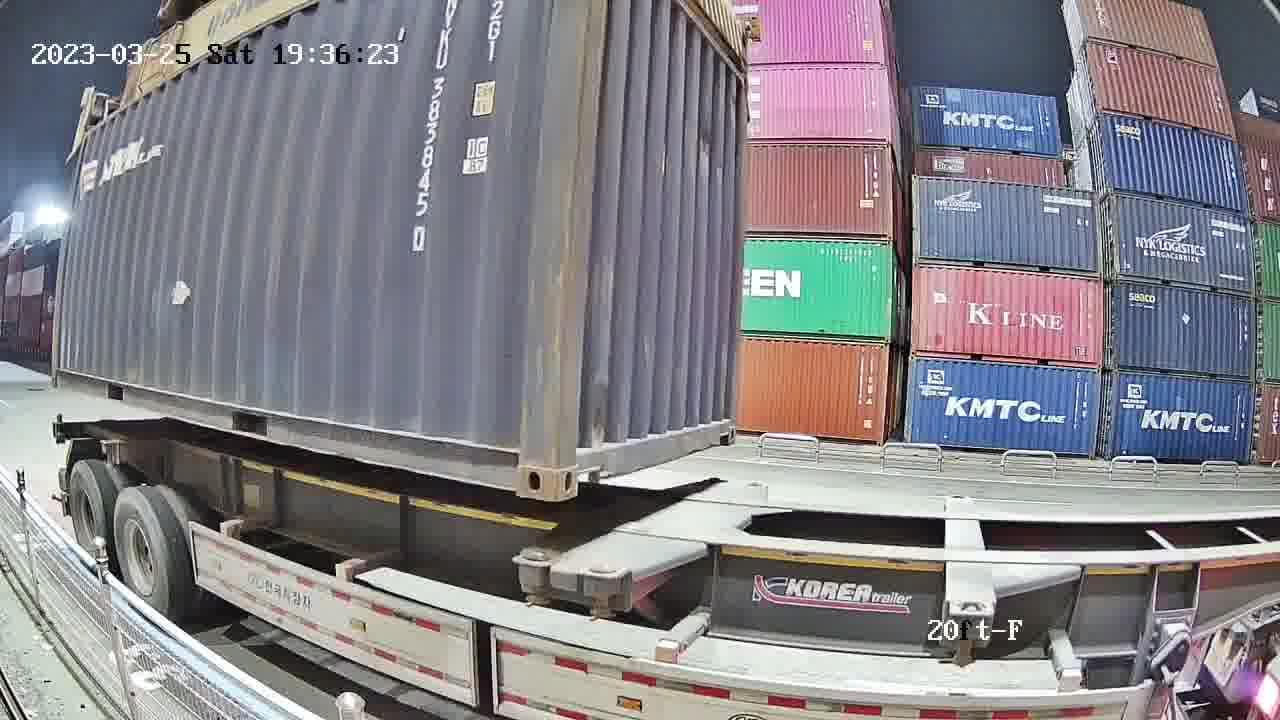Chassis: (515, 478, 727, 564), (582, 480, 766, 575)
Cone: (583, 563, 627, 622), (516, 548, 557, 607)
Hole_L: (554, 427, 604, 501)
Hole_R: (490, 427, 554, 504), (712, 402, 739, 446)
Tire: (112, 492, 170, 613), (69, 463, 108, 567)
